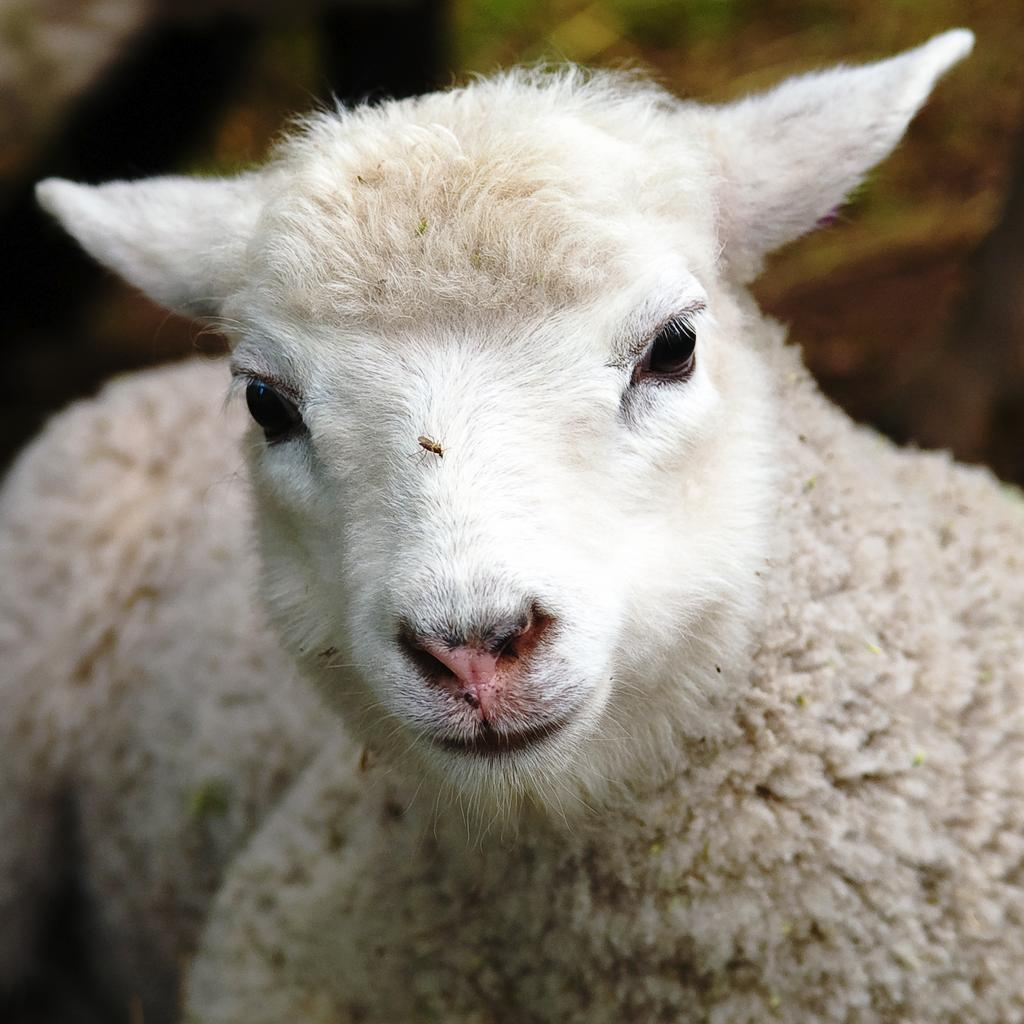Sheep: (52, 23, 960, 863)
